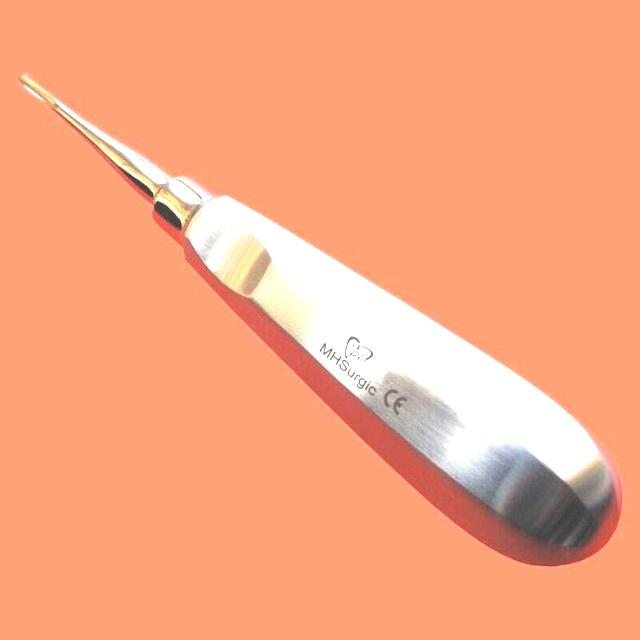botador: (18, 74, 624, 569)
